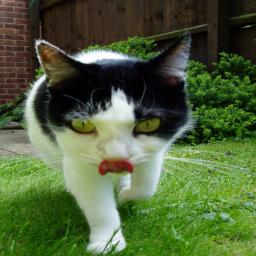catnose: (101, 149, 132, 164)
